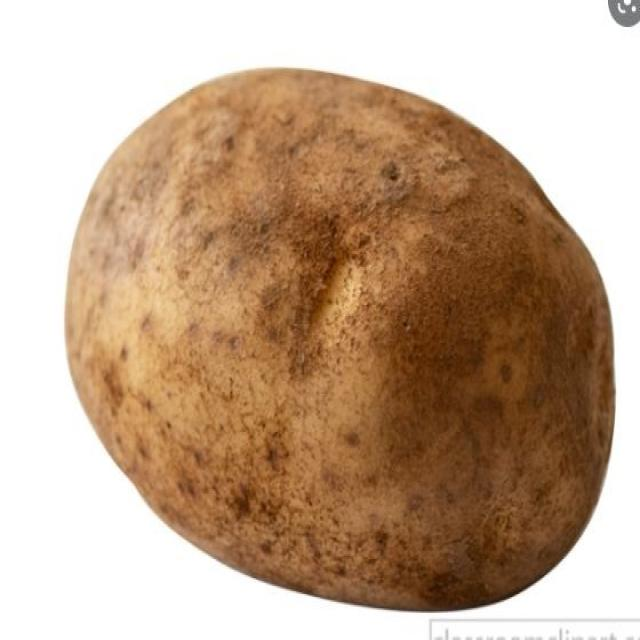potato: (64, 70, 617, 614)
